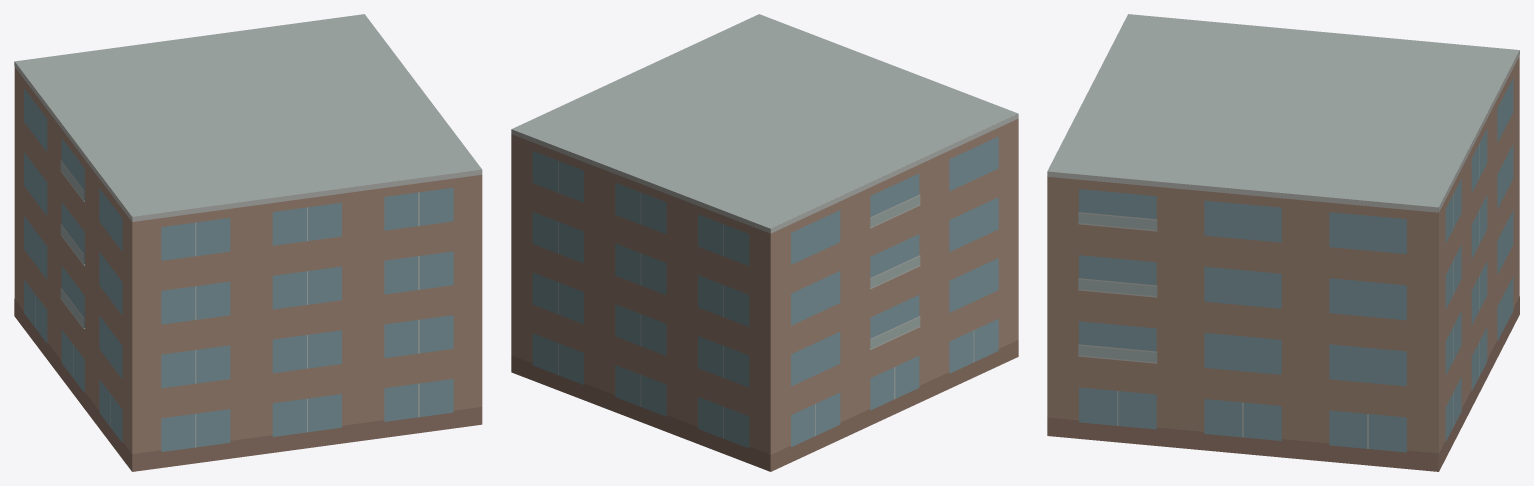
The model's file is residential-37061a94-5b33-4817-8486-095dd3b47bae.glb.
3 views of the same model, side by side, from view 1: azimuth 30°, elevation 25°; view 2: azimuth 150°, elevation 25°; view 3: azimuth 270°, elevation 25° (orthographic). The views are drawn at different scales.
Parts seen in each view (by area): view 1: residential-37061a94-5b33-4817-8486-095dd3b47bae.tmp; view 2: residential-37061a94-5b33-4817-8486-095dd3b47bae.tmp; view 3: residential-37061a94-5b33-4817-8486-095dd3b47bae.tmp.
Part boxes in pixels (<box>): residential-37061a94-5b33-4817-8486-095dd3b47bae.tmp: <box>14,14,482,471</box>; residential-37061a94-5b33-4817-8486-095dd3b47bae.tmp: <box>511,14,1018,471</box>; residential-37061a94-5b33-4817-8486-095dd3b47bae.tmp: <box>1047,14,1519,471</box>.
Size of the model in its own units: 19.15 by 12.2 by 19.77.
